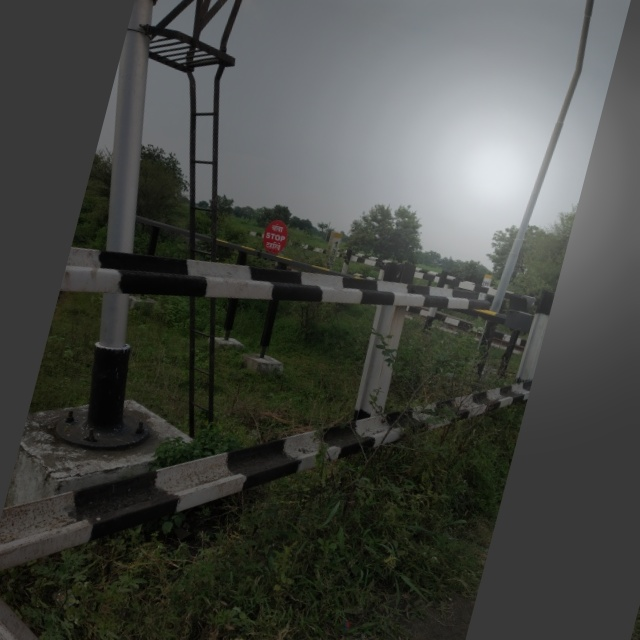Stop: (259, 217, 291, 257)
